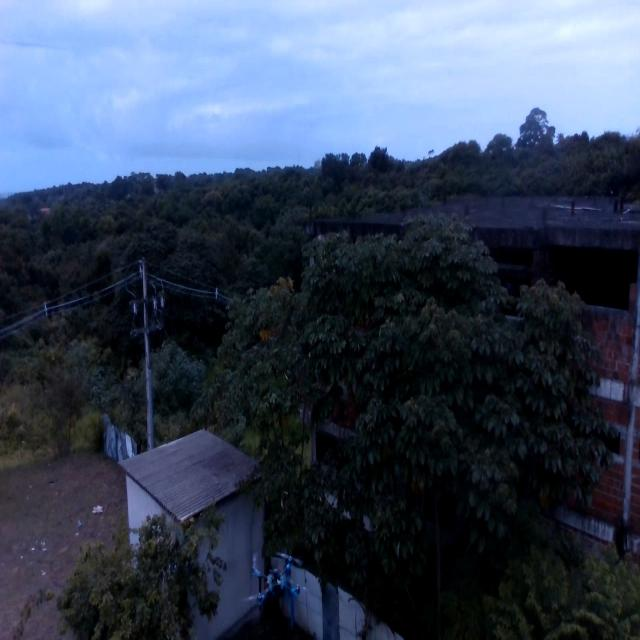-uav-: (232, 538, 326, 638)
